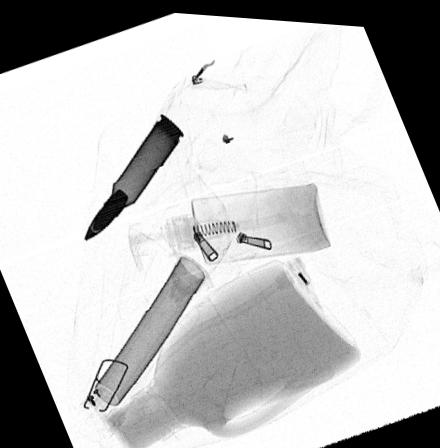Bullet: (83, 111, 185, 240)
